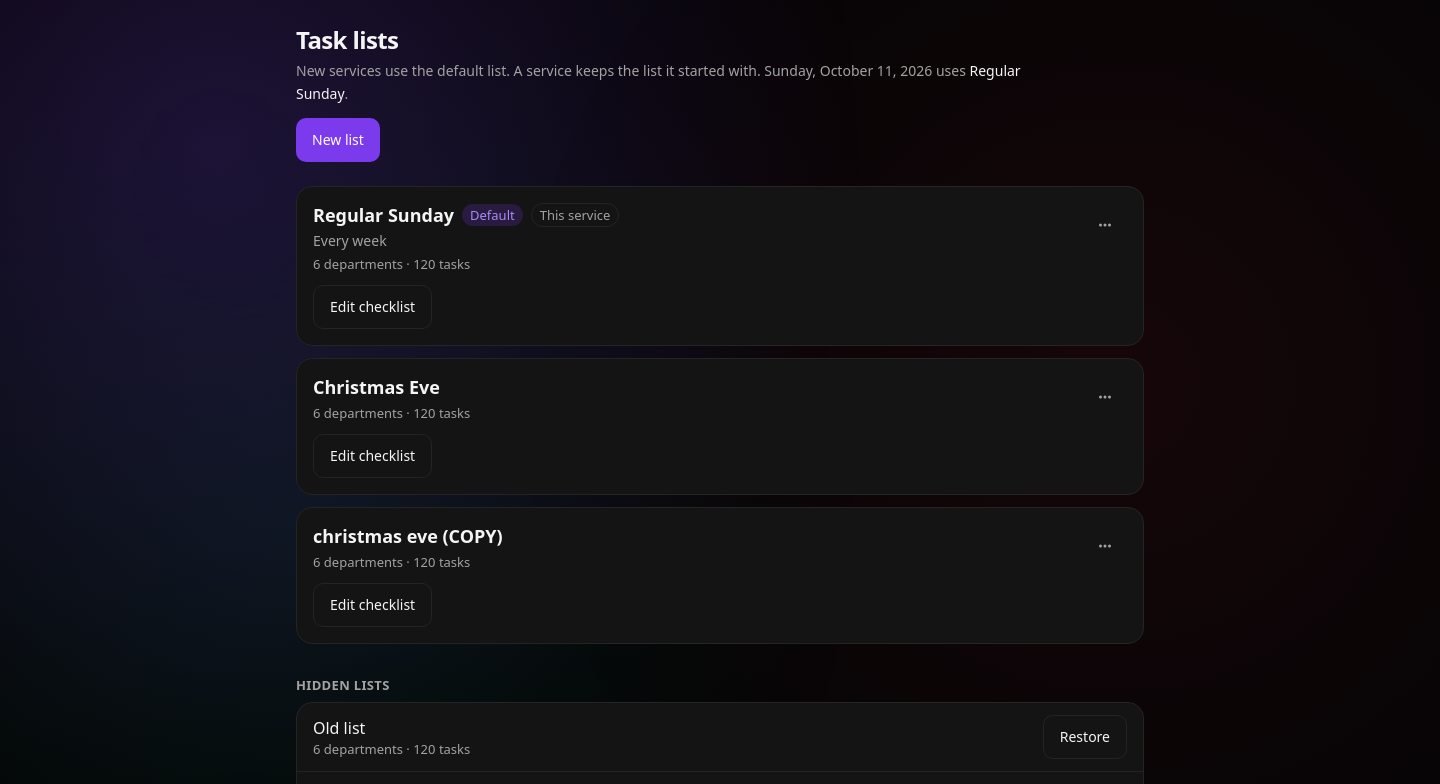
Lists page › suggests a copy name no visible list has (names are unique, ignoring case)
The width and height of the screenshot is (1440, 784).
Expected: the heading "Regular Sunday" is shown, left=313, top=202, right=454, bottom=227
Click the button named "Actions for list: Christmas Eve". click: (1105,397)
box: left=1083, top=375, right=1127, bottom=419
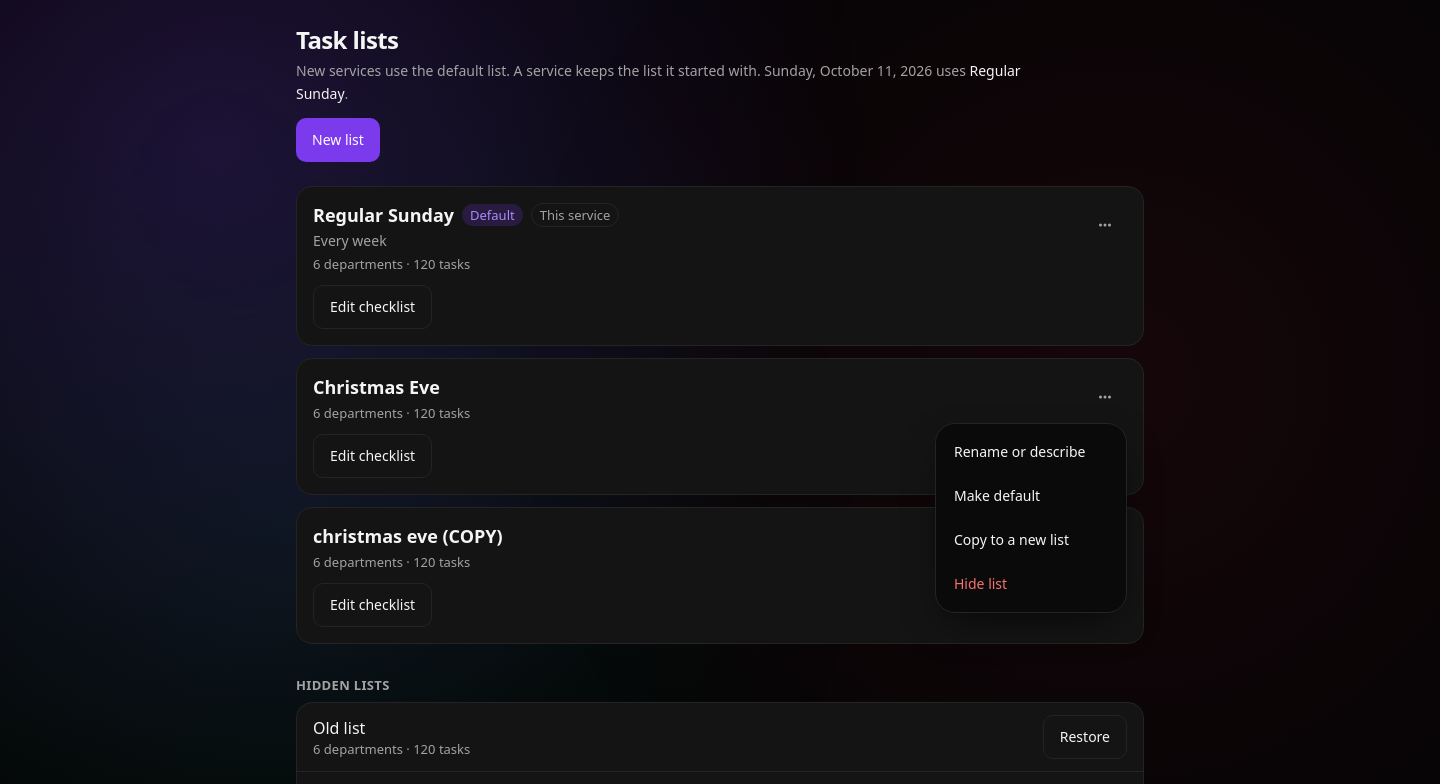
Click the button "Copy to a new list". click: (1031,540)
box: left=942, top=518, right=1120, bottom=562
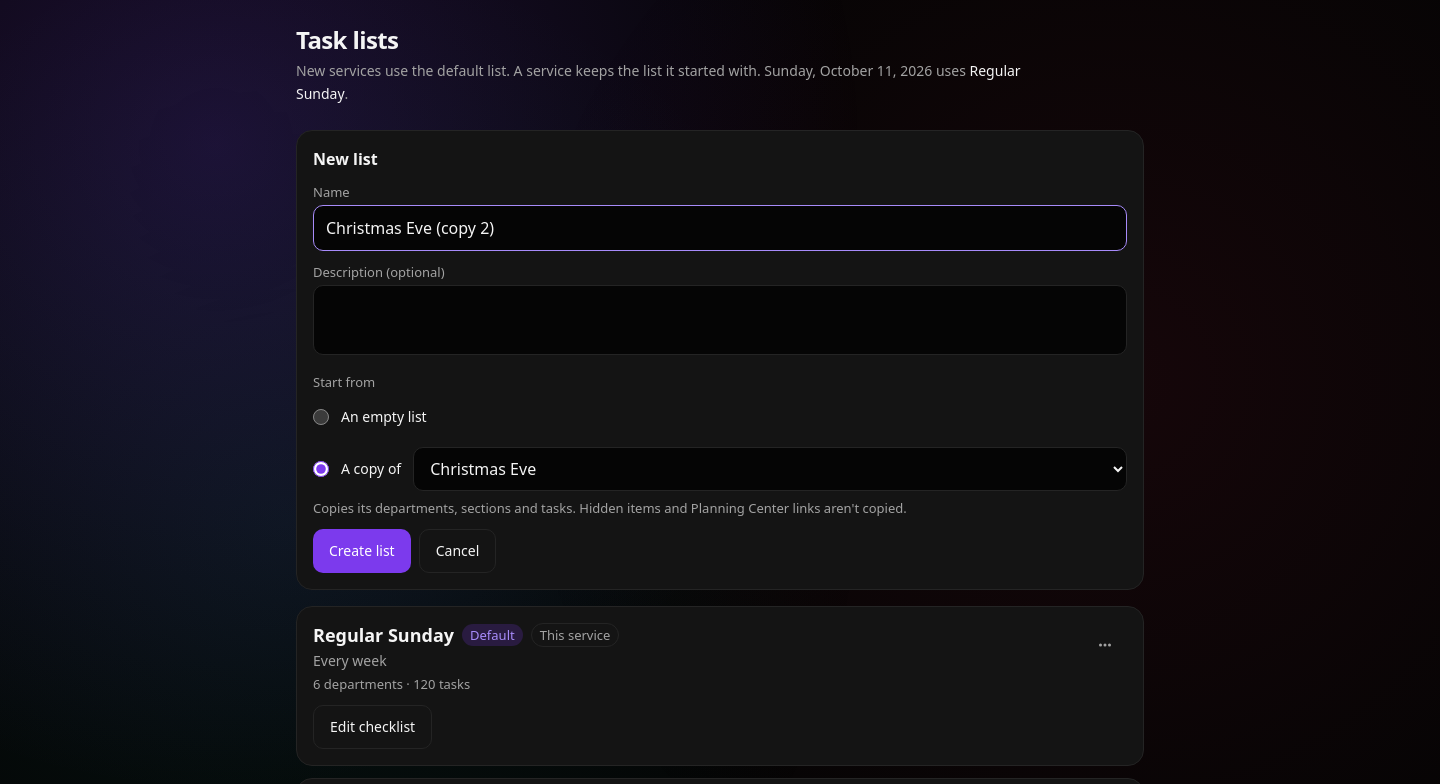
Now the field labelled "Name" holds "Christmas Eve (copy 2)", box left=313, top=204, right=1127, bottom=250
